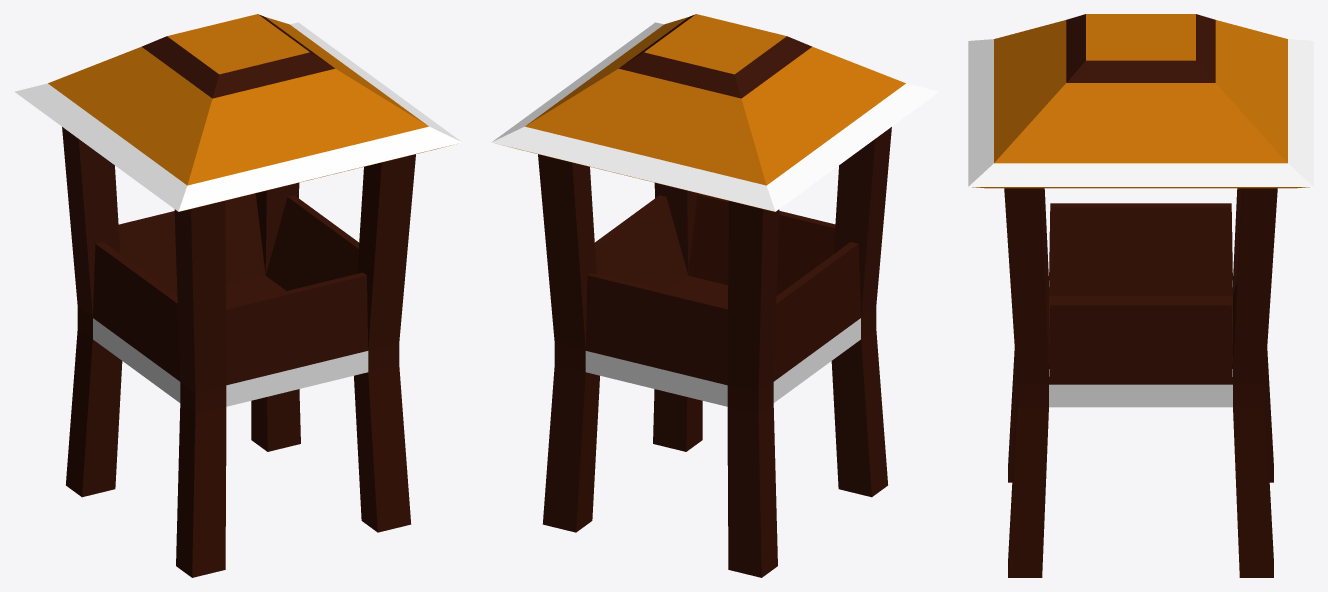
Rendered from tower.obj.
3 renders of one model, left to right at view 1: azimuth 30°, elevation 25°; view 2: azimuth 150°, elevation 25°; view 3: azimuth 270°, elevation 25°, orthographic. The views are drawn at different scales.
Visible parts, largest first — view 1: tower; view 2: tower; view 3: tower.
Part boxes in pixels (left/top/right/bottom): tower: left=14, top=14, right=462, bottom=577; tower: left=491, top=14, right=939, bottom=577; tower: left=968, top=14, right=1313, bottom=577.
Bounding box in the file's own units: 1.13 × 1.76 × 1.13.
